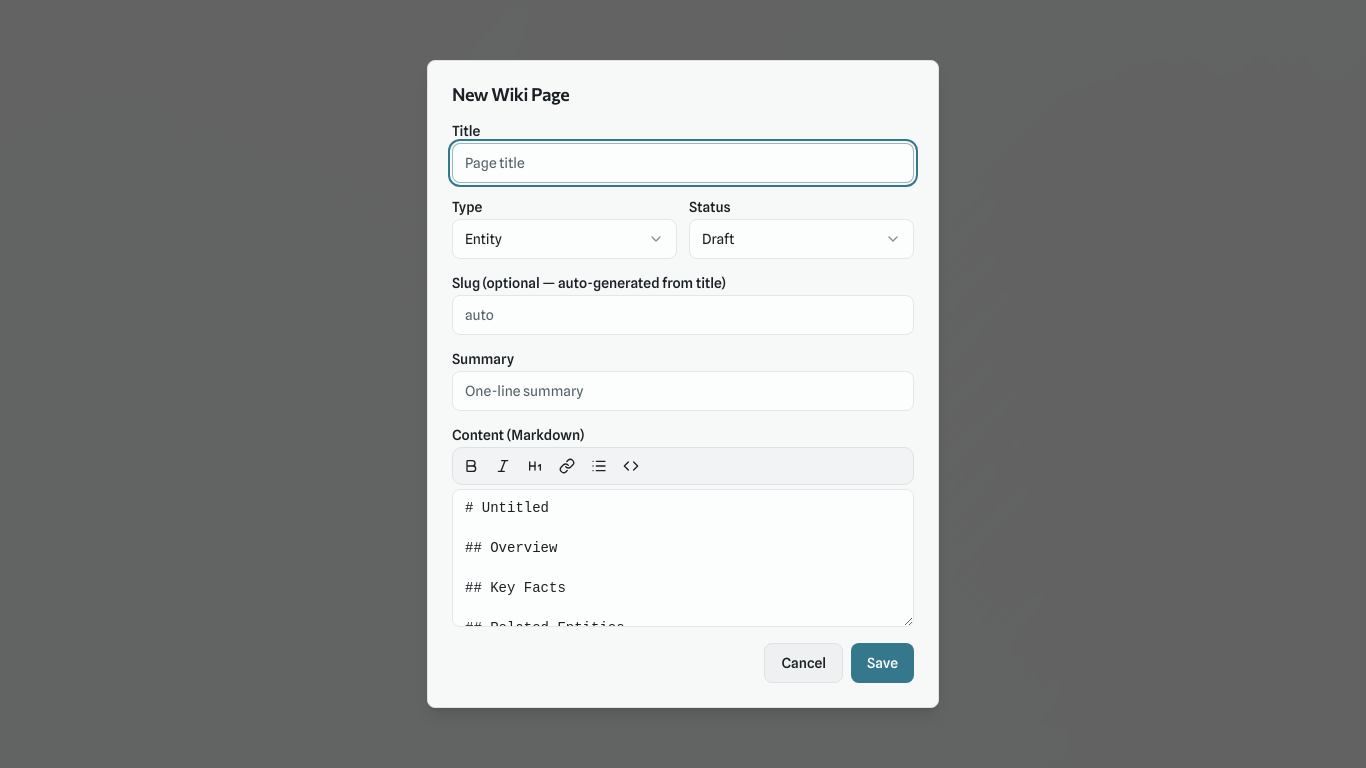
Test case: WikiEditDialog › inserts the Code placeholder when nothing is selected
This screenshot has width=1366, height=768.
Clear the text box labelled "Content (Markdown)": (683, 558) [452,489,914,627]
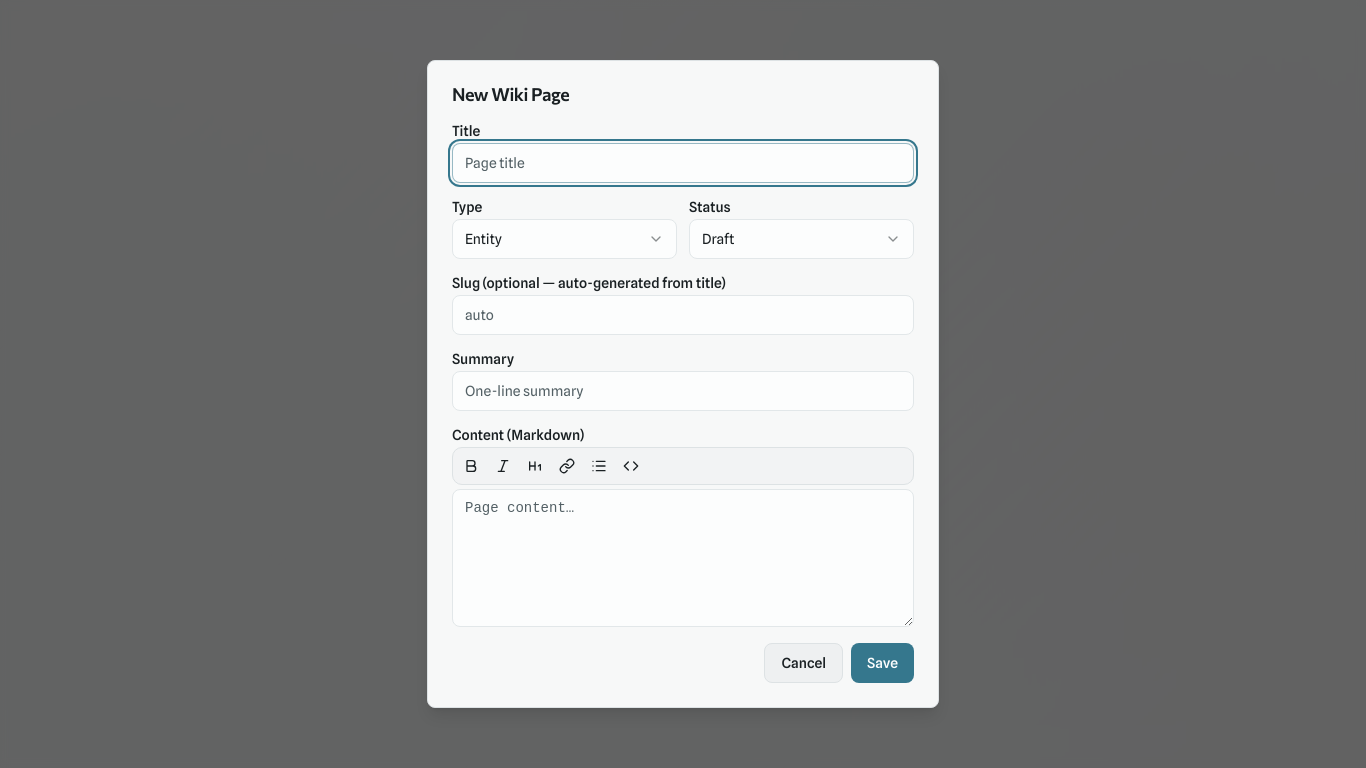
Click the button titled "Code": (631, 466) [617,452,645,480]
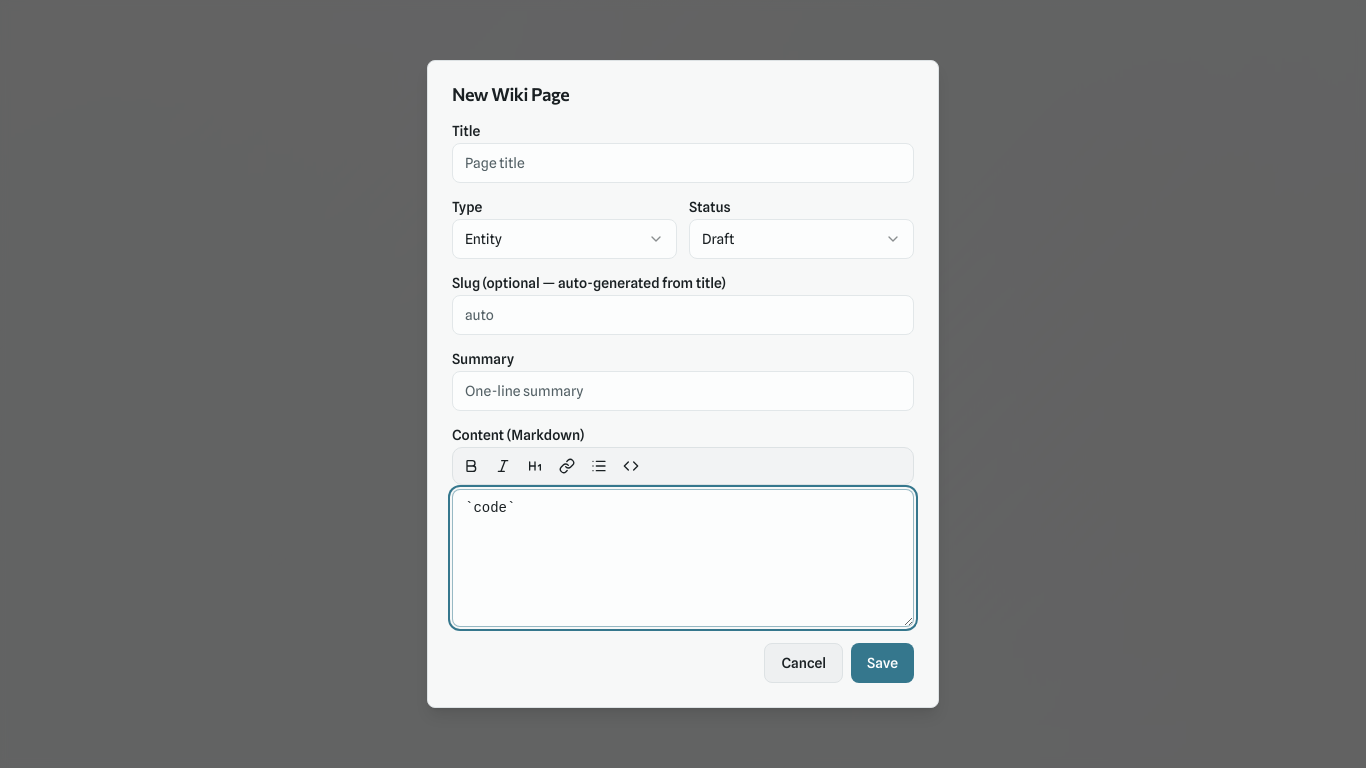
Expected: the text box labelled "Content (Markdown)" holds "`code`", [452,489,914,627]
